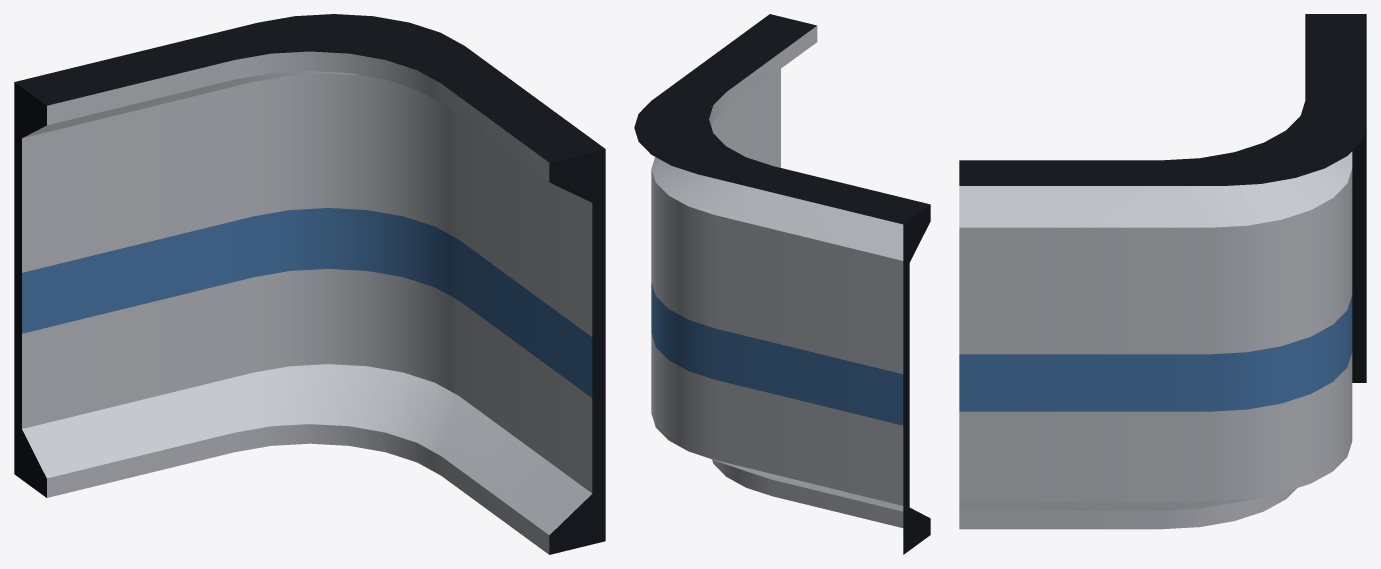
Rendered from sm_Wall_In_Corner_A_00.fbx.
3 views of the same model, side by side, from view 1: azimuth 30°, elevation 25°; view 2: azimuth 150°, elevation 25°; view 3: azimuth 270°, elevation 25° (orthographic). The views are drawn at different scales.
Parts seen in each view (by area): view 1: Wall_In_Corner_A_00; view 2: Wall_In_Corner_A_00; view 3: Wall_In_Corner_A_00.
Boxes of the visible parts, box(x1,y1,x2,y2) form: Wall_In_Corner_A_00: box(14, 14, 605, 554); Wall_In_Corner_A_00: box(634, 14, 930, 554); Wall_In_Corner_A_00: box(959, 14, 1366, 529).
Size of the model in its own units: 200 by 200 by 200.
